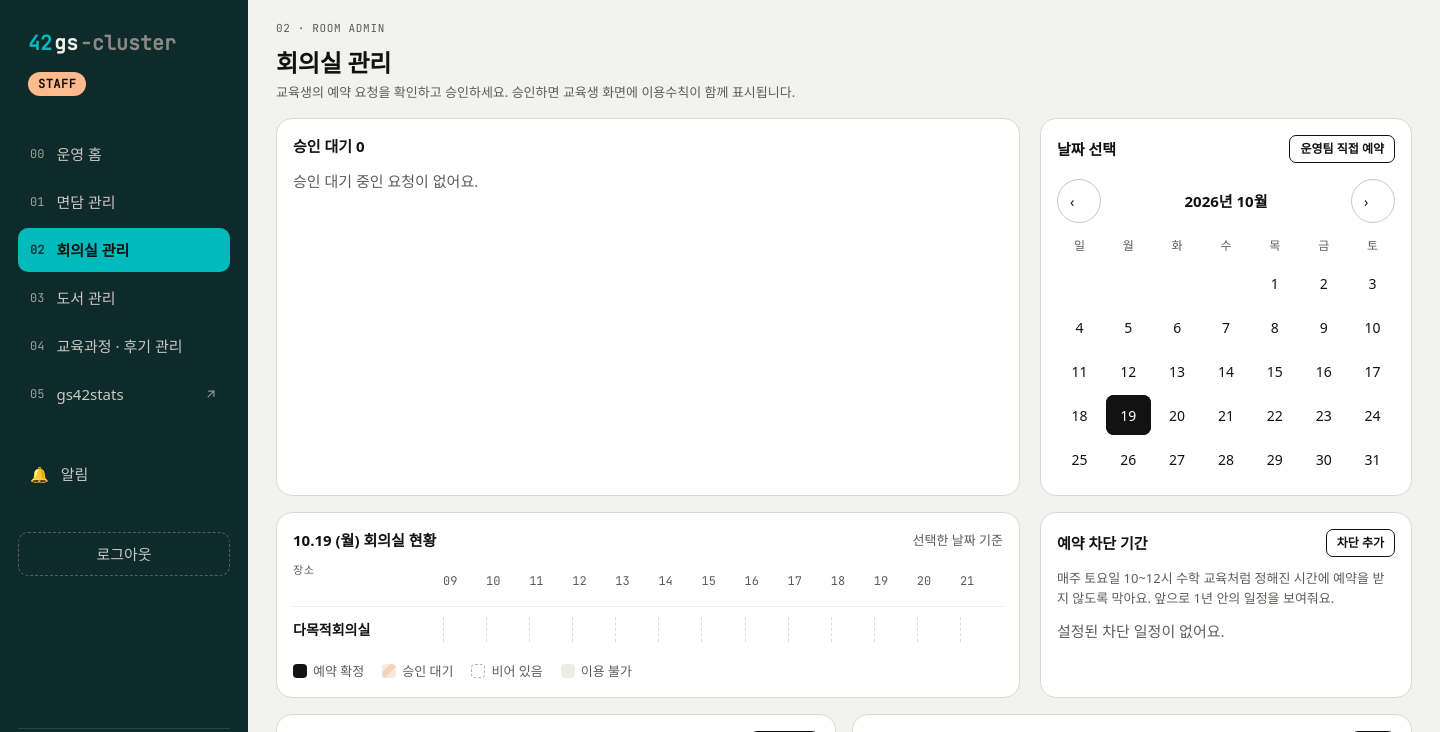
it: 예약 차단 기간 › 필수값이 비면 요청하지 않고 안내한다(사유, 요일, 반복 종료일)
expect the heading "회의실 관리" is shown: met, box [276, 46, 391, 78]
Click the button "차단 추가": click(1360, 543) [1326, 529, 1395, 557]
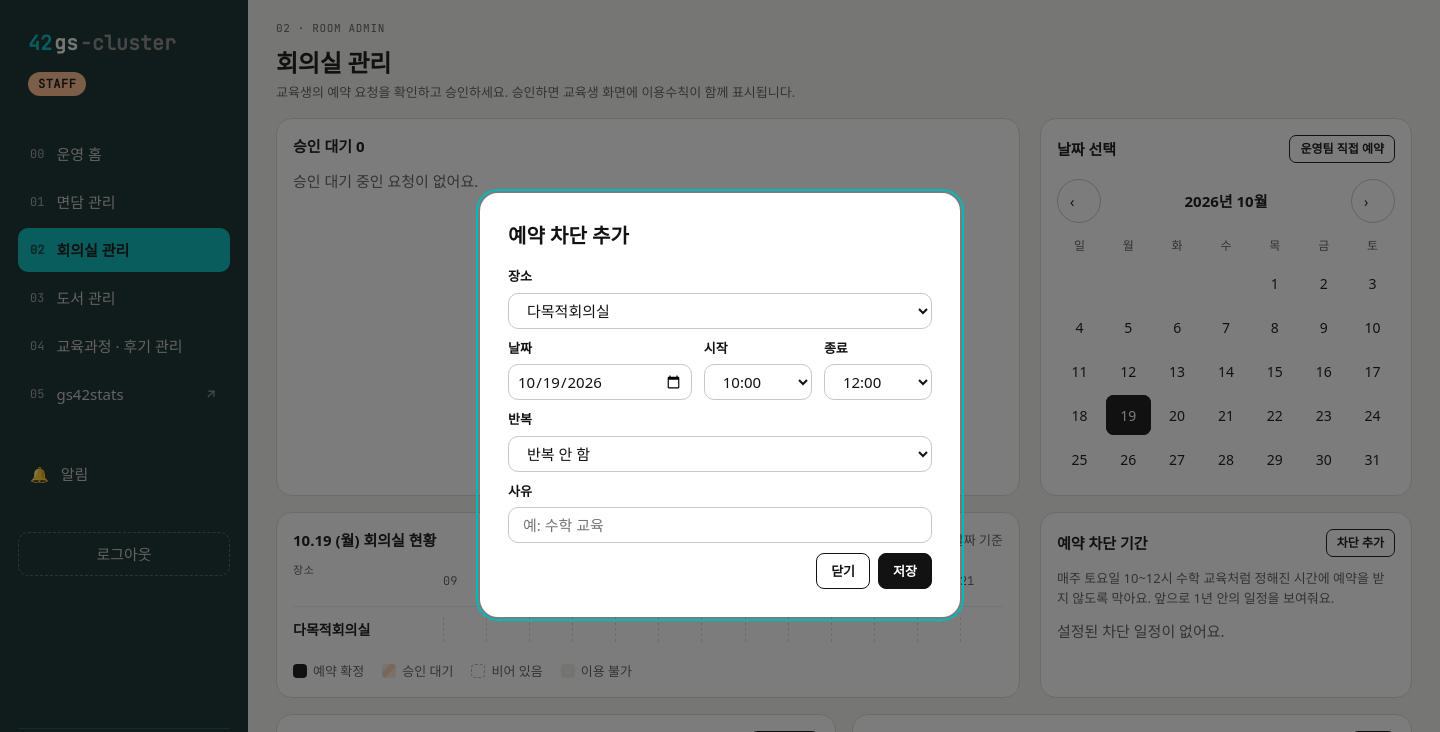
Select "매주(요일 선택)" in the dropdown labelled "반복": (720, 454) [508, 436, 932, 472]
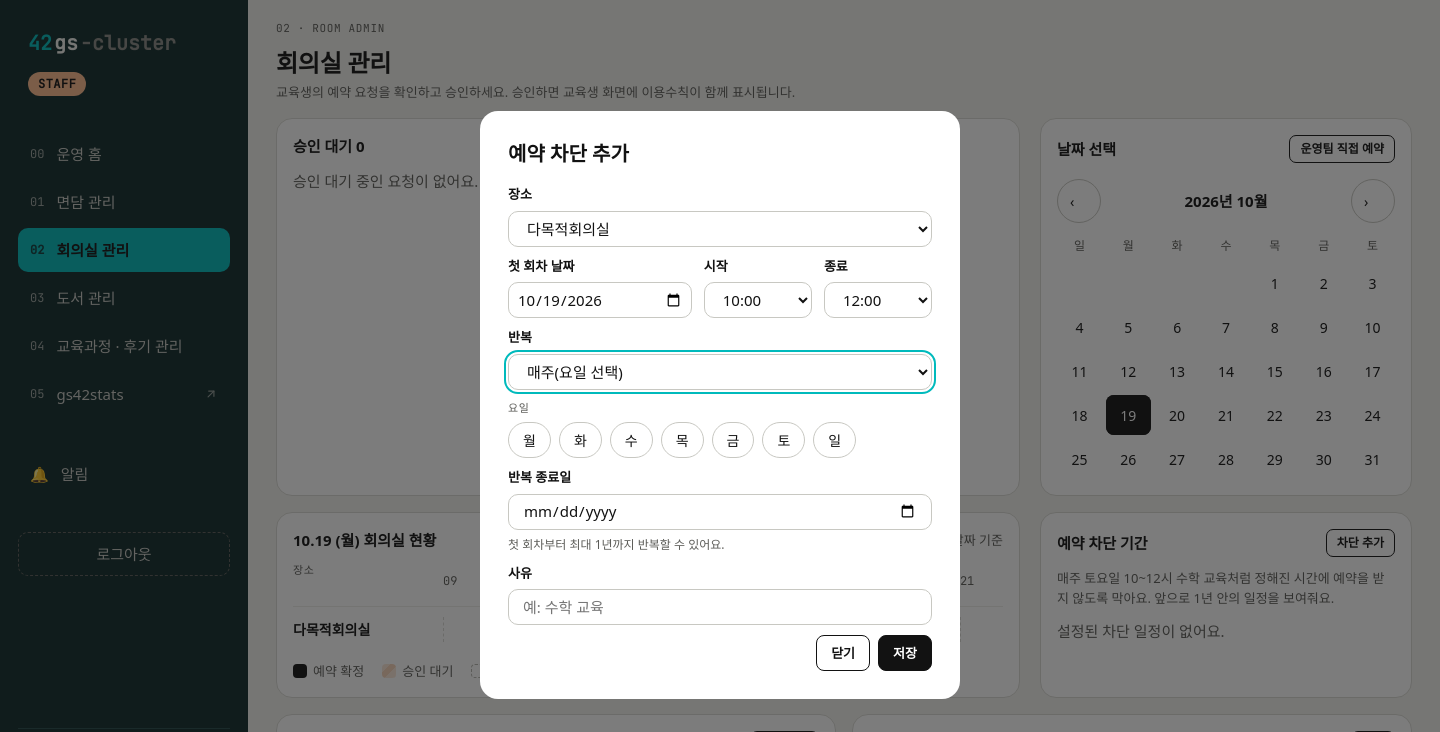
Click the button "저장": click(905, 653) [878, 635, 932, 671]
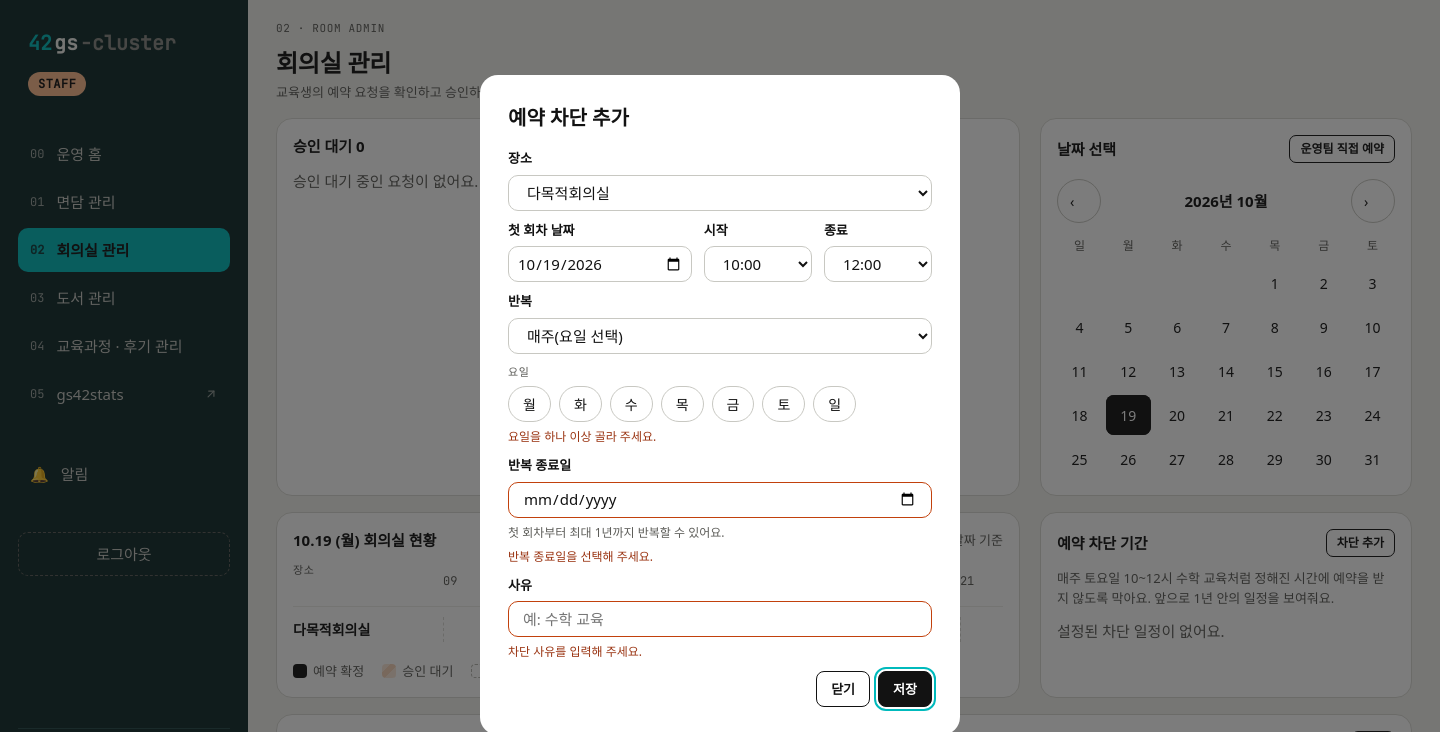
expect the text "차단 사유를 입력해 주세요." is shown: met, box [508, 643, 642, 660]
expect the text "요일을 하나 이상 골라 주세요." is shown: met, box [508, 428, 656, 445]
expect the text "반복 종료일을 선택해 주세요." is shown: met, box [508, 548, 653, 564]
